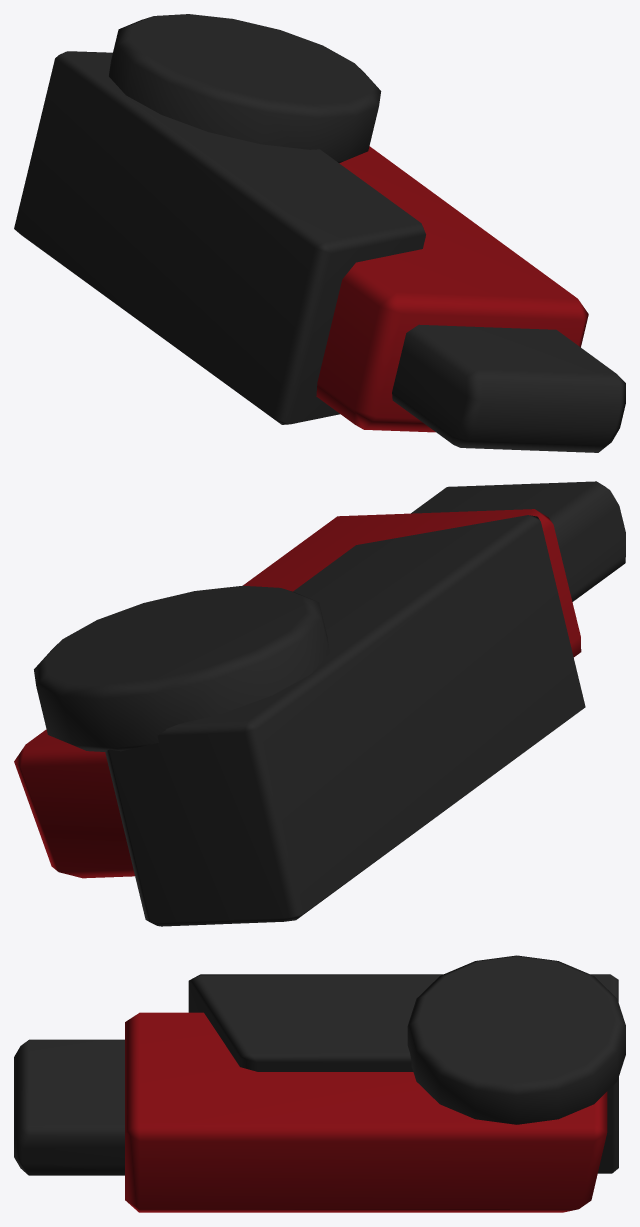
File: Ship_enemy_05_Weapon_L.fbx
The picture shows the model from 3 angles, top to bottom: view 1: azimuth 30°, elevation 25°; view 2: azimuth 150°, elevation 25°; view 3: azimuth 270°, elevation 25°; orthographic projection. The views are drawn at different scales.
Parts seen in each view (by area): view 1: Ship_enemy_05_Weapon_L; view 2: Ship_enemy_05_Weapon_L; view 3: Ship_enemy_05_Weapon_L.
Boxes of the visible parts, x1=… form: Ship_enemy_05_Weapon_L: x1=14, y1=14, x2=625, y2=452; Ship_enemy_05_Weapon_L: x1=14, y1=481, x2=625, y2=926; Ship_enemy_05_Weapon_L: x1=14, y1=955, x2=625, y2=1212.
Size of the model in its own units: 85.78 by 69.05 by 197.
